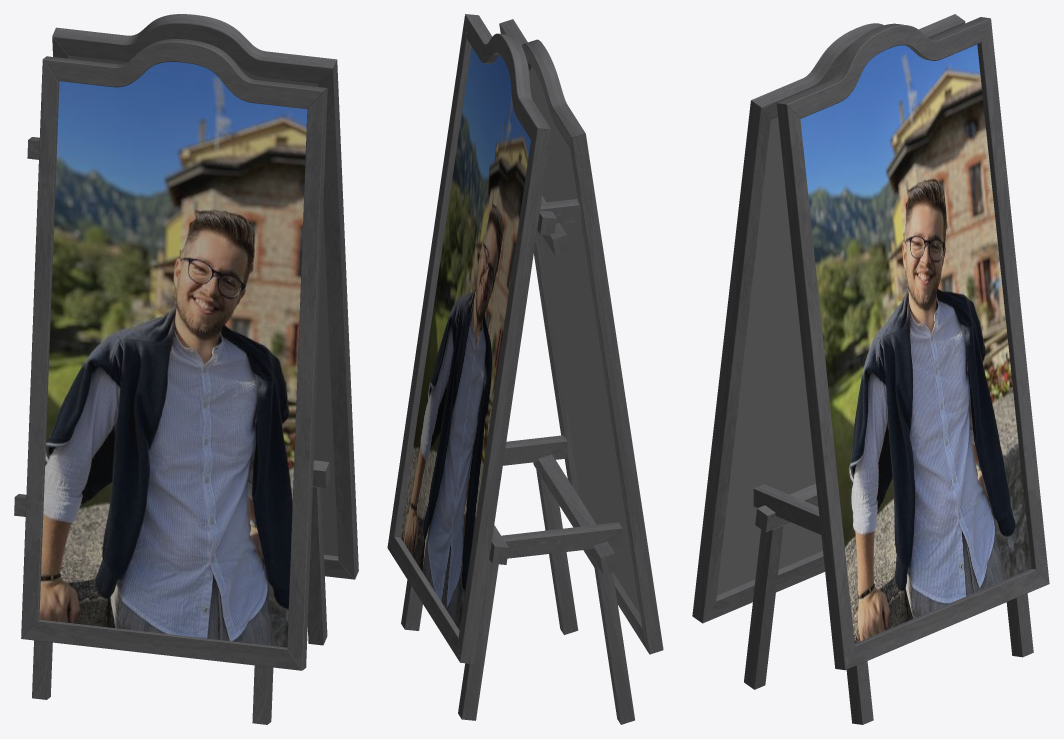
Rendered from Banner.obj.
The picture shows the model from 3 angles, left to right: view 1: azimuth 30°, elevation 25°; view 2: azimuth 150°, elevation 25°; view 3: azimuth 270°, elevation 25°; orthographic projection. The views are drawn at different scales.
Parts seen in each view (by area): view 1: Object352, Rectangle1316, Rectangle1321, Object353, Rectangle1324, Rectangle1320, Rectangle1319; view 2: Object353, Rectangle1321, Object352, Rectangle1316, Rectangle1319, Rectangle1329, Rectangle1318, Rectangle1320, Rectangle1323, Rectangle1328, Rectangle1324, Rectangle1326 (+2 smaller); view 3: Object353, Rectangle1321, Object352, Rectangle1316, Rectangle1320, Rectangle1328, Rectangle1324, Rectangle1323, Rectangle1318.
Part boxes in pixels (x1,y1,x2,y2): Object352: (39, 62, 307, 647); Rectangle1316: (21, 39, 327, 670); Rectangle1321: (52, 14, 358, 579); Object353: (70, 46, 338, 556); Rectangle1324: (307, 486, 327, 645); Rectangle1320: (252, 665, 273, 724); Rectangle1319: (32, 640, 52, 699); Object353: (400, 47, 530, 629); Rectangle1321: (387, 14, 551, 663); Object352: (529, 66, 640, 614); Rectangle1316: (499, 19, 663, 654); Rectangle1319: (593, 559, 634, 724); Rectangle1329: (501, 522, 622, 558); Rectangle1318: (533, 454, 617, 574); Rectangle1320: (536, 469, 578, 634); Rectangle1323: (458, 559, 498, 720); Rectangle1328: (503, 435, 567, 465); Rectangle1324: (401, 580, 422, 630); Rectangle1326: (540, 199, 580, 224); Object353: (800, 44, 1031, 643); Rectangle1321: (776, 17, 1049, 670); Object352: (717, 117, 822, 595); Rectangle1316: (692, 14, 965, 623); Rectangle1320: (744, 525, 783, 689); Rectangle1328: (753, 484, 821, 534); Rectangle1324: (846, 661, 873, 724); Rectangle1323: (1006, 593, 1033, 657); Rectangle1318: (755, 483, 818, 532).
Bounding box in the file's own units: 0.549 × 1.11 × 0.549.
Materials: 3 (2 with a texture image).
